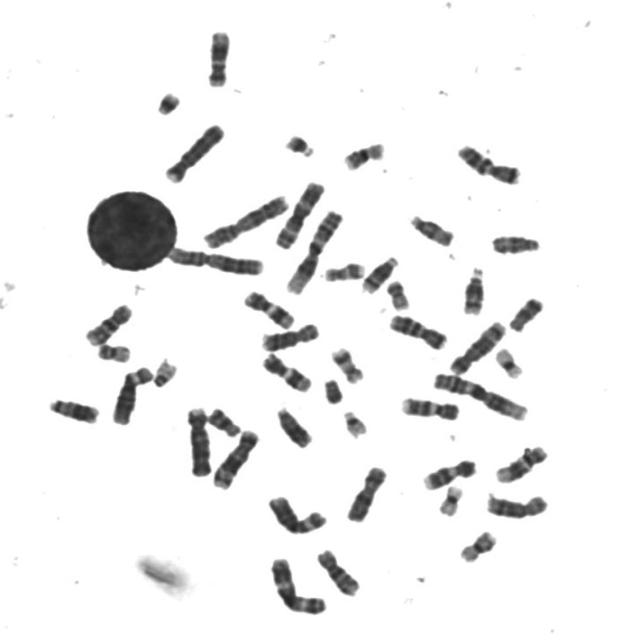A1: (428, 366, 532, 422), (282, 206, 346, 296)
A2: (198, 188, 293, 250), (164, 239, 267, 277)
A3: (271, 175, 328, 250), (265, 552, 330, 616)
B4: (161, 116, 228, 184), (182, 401, 216, 478)
B5: (446, 315, 509, 375), (208, 424, 262, 491)
C10: (312, 543, 364, 598), (80, 298, 136, 347)
C11: (240, 284, 299, 331), (258, 347, 316, 394)
C12: (491, 439, 552, 485), (202, 23, 234, 88)
C6: (108, 360, 157, 426), (263, 489, 330, 536)
C7: (452, 137, 526, 185), (385, 308, 451, 352)
C8: (482, 486, 552, 520), (257, 317, 324, 352)
C9: (418, 453, 481, 492), (397, 390, 463, 422)
D13: (272, 401, 316, 449), (44, 392, 103, 425)
D14: (358, 250, 402, 294), (458, 260, 489, 316)
D15: (405, 208, 458, 248), (488, 228, 544, 256)
E16: (339, 135, 389, 171), (455, 524, 500, 564)
E17: (327, 342, 368, 384), (319, 255, 369, 283)
E18: (505, 290, 547, 333), (204, 402, 244, 438)
F19: (492, 342, 526, 381), (434, 480, 467, 518)
F20: (382, 274, 414, 311), (93, 337, 134, 364)
G21: (280, 126, 319, 158), (150, 85, 185, 116)
G22: (148, 353, 181, 389), (339, 404, 371, 438)
X: (342, 460, 391, 523)
Y: (320, 373, 347, 405)
